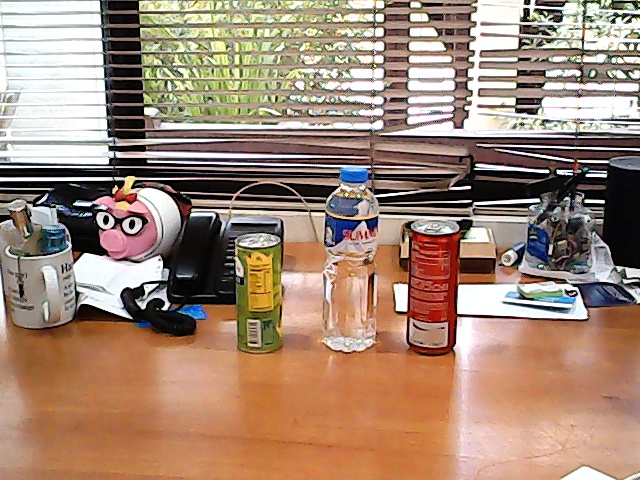Cola: (405, 222, 460, 356)
Pine Juice: (234, 235, 283, 354)
Summit Water: (325, 167, 380, 353)
